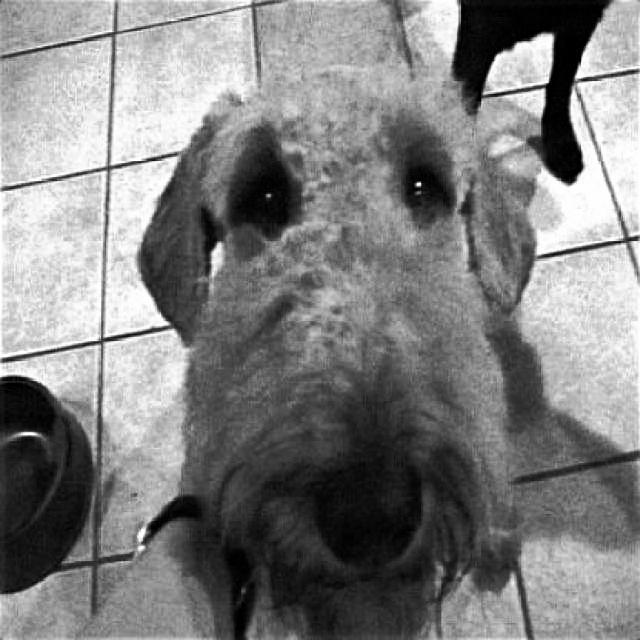Dog: (126, 58, 540, 640)
